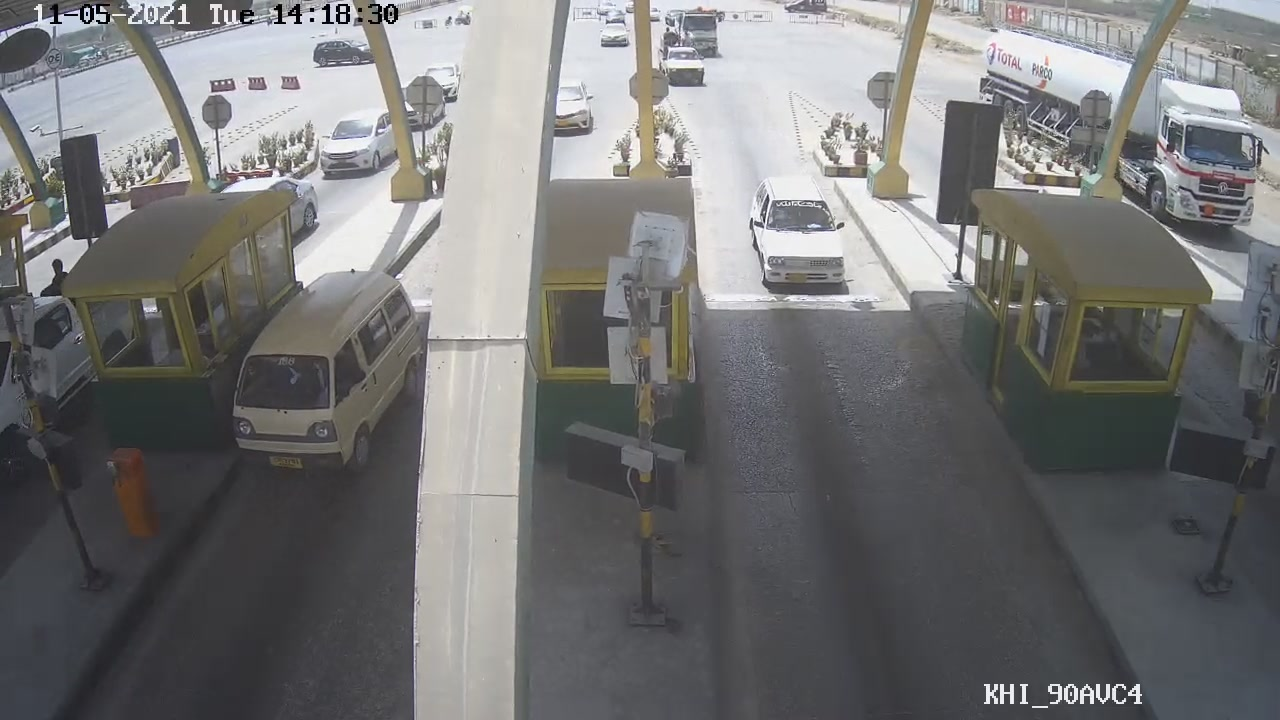F1: (741, 184, 862, 288)
